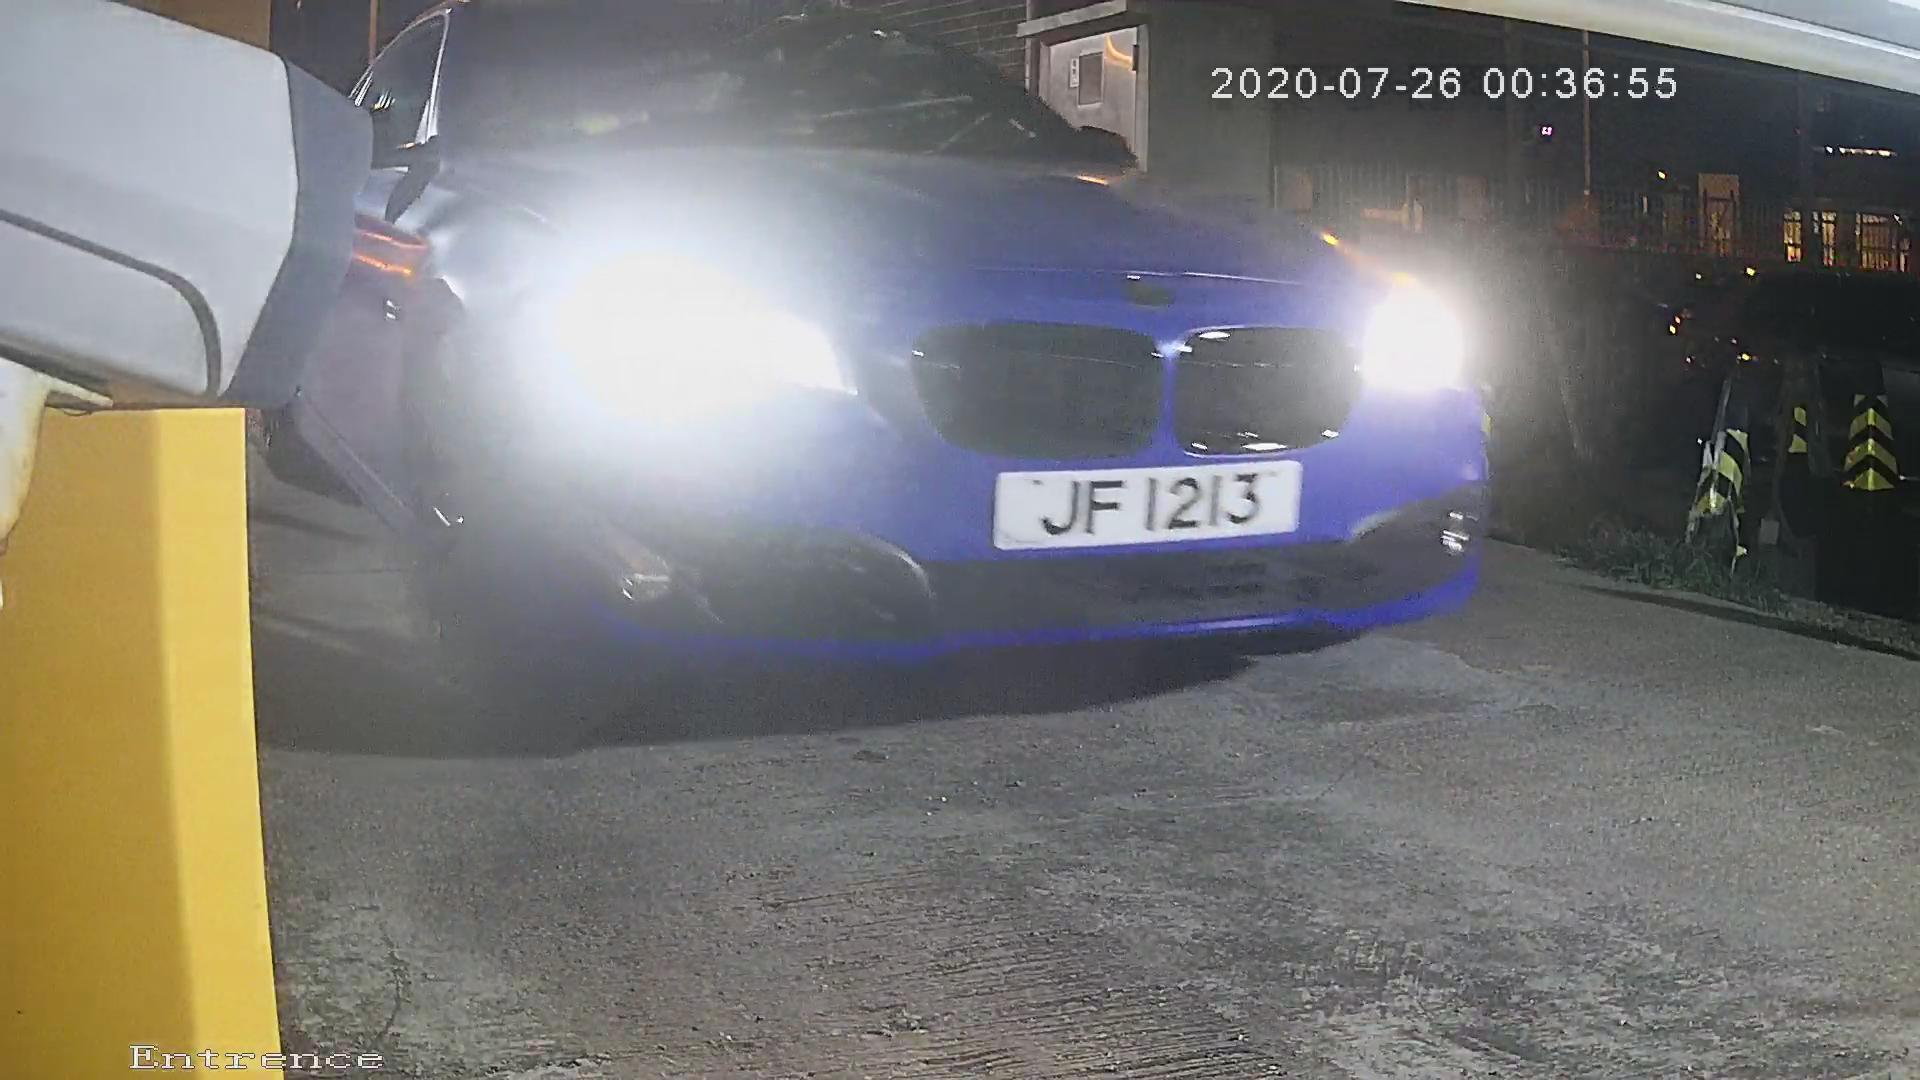privatecar: (301, 1, 1783, 719)
